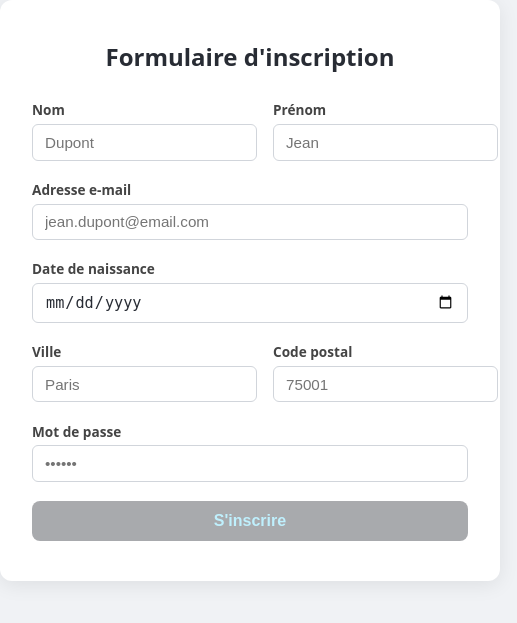
Scenario: shows a red error when email is malformed after blur
Type "not-an-email" into the field labelled "Adresse e-mail" at (250, 222), box [32, 204, 468, 240]
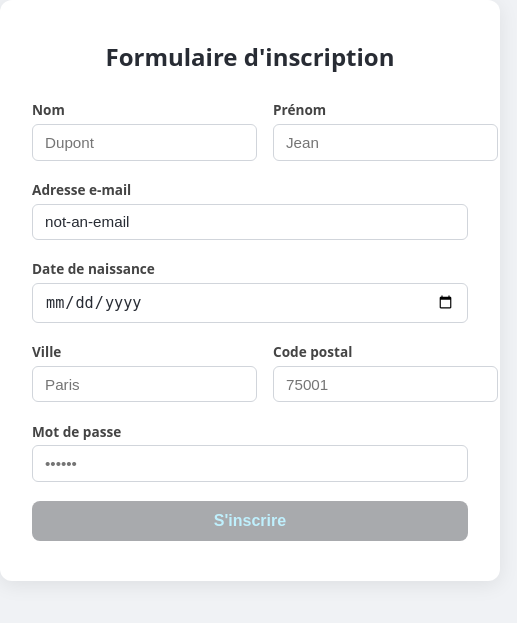
Leave the field labelled "Adresse e-mail", box [32, 204, 468, 240]
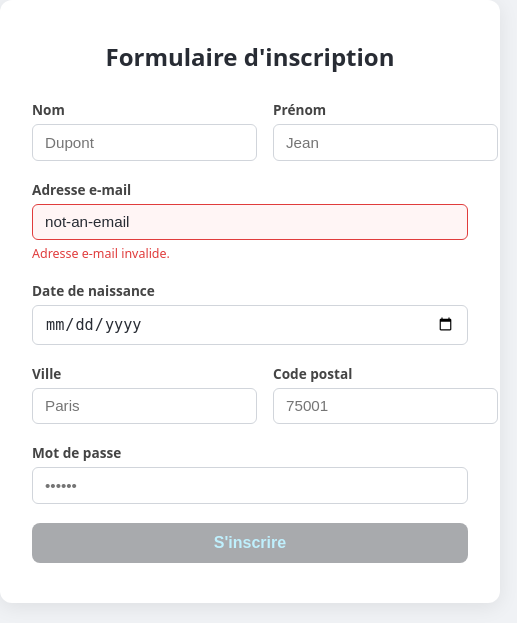
Expected: the text "Adresse e-mail invalide." is shown, [32, 245, 170, 262]
